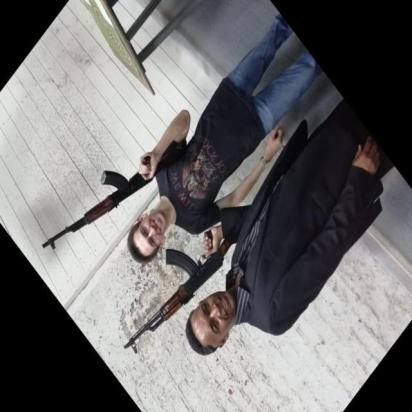Gun: (41, 140, 186, 250), (124, 229, 238, 354)
